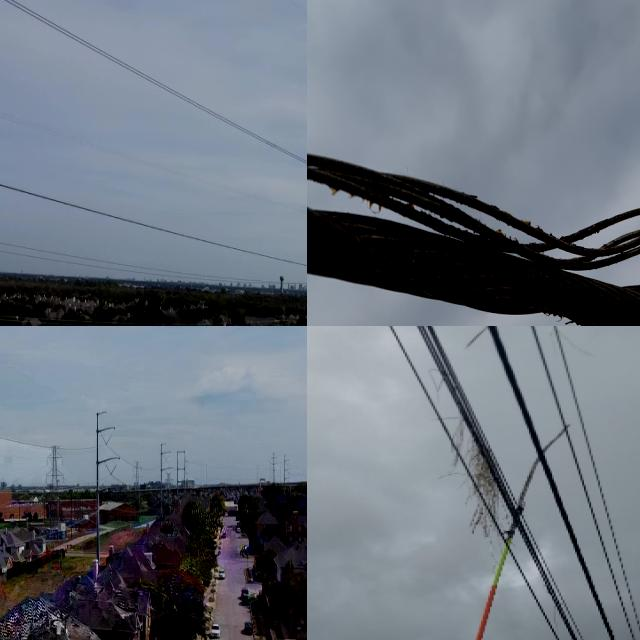杆塔: (36, 435, 68, 531)
植被遮挡: (416, 370, 510, 546), (457, 326, 498, 352)
电缆破损: (336, 127, 640, 326)
